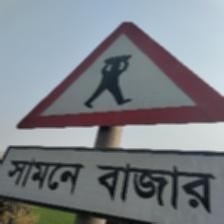Market-in-front: (14, 19, 222, 223)
